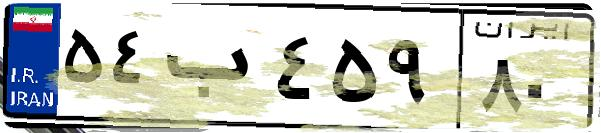0: (525, 38, 570, 115)
4: (270, 28, 330, 110), (110, 28, 158, 98)
5: (330, 28, 385, 110), (57, 26, 110, 100)
8: (475, 38, 525, 113)
9: (385, 28, 445, 110)
ب: (158, 20, 270, 120)
